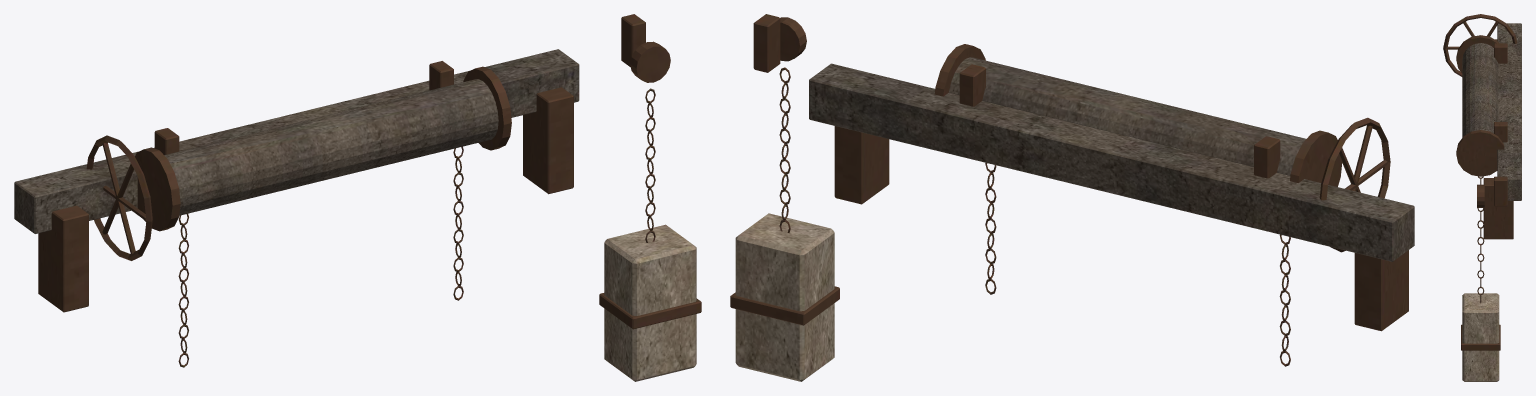
The model's file is gate-machinery.glb.
3 views of the same model, side by side, from view 1: azimuth 30°, elevation 25°; view 2: azimuth 150°, elevation 25°; view 3: azimuth 270°, elevation 25° (orthographic). The views are drawn at different scales.
Visible parts, largest first — view 1: Drum, Counterweight, Frame, WallBracket, PulleyBracket, Pulley, ChainWeight, ChainRight, ChainLeft; view 2: Frame, Drum, Counterweight, WallBracket, PulleyBracket, Pulley, ChainWeight, ChainRight, ChainLeft; view 3: Drum, Frame, Counterweight, WallBracket, PulleyBracket, ChainWeight, Pulley.
Boxes of the visible parts, x1,y1,x2,y2 form: Drum: (86,66,511,260); Counterweight: (599,224,701,381); Frame: (14,49,579,233); WallBracket: (38,87,573,312); PulleyBracket: (154,14,645,154); Pulley: (630,41,670,82); ChainWeight: (645,88,655,242); ChainRight: (453,146,463,300); ChainLeft: (178,213,188,367); Frame: (809,63,1414,261); Drum: (934,44,1390,252); Counterweight: (730,213,839,381); WallBracket: (834,126,1408,331); PulleyBracket: (753,14,1280,178); Pulley: (780,17,806,61); ChainWeight: (779,67,790,232); ChainRight: (985,163,996,294); ChainLeft: (1279,234,1290,366); Drum: (1443,14,1517,176); Frame: (1497,23,1521,200); Counterweight: (1461,293,1500,381); WallBracket: (1483,39,1513,239); PulleyBracket: (1494,43,1507,206); ChainWeight: (1477,212,1484,302); Pulley: (1477,184,1484,207).
Bounding box in the file's own units: 3.15 × 1.68 × 0.576.
1 material, 1 textured.
